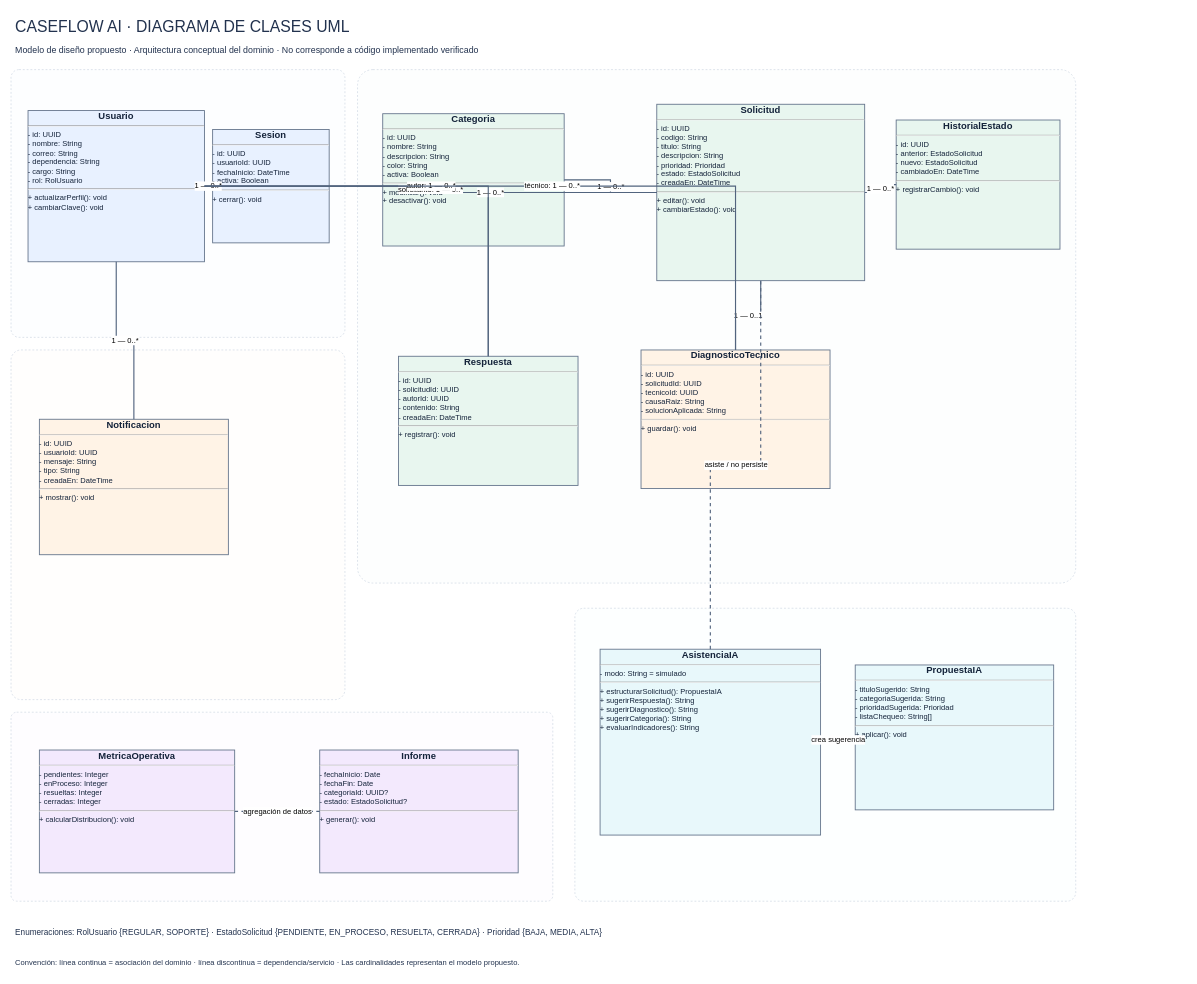
The diagram is 1197 pixels wide and 984 high, and some of its shapes have lost their labels. The box of each missing label's shape, as (x1, y1, x2, y2) in pixels:
Analítica e informes: (10, 712, 553, 901)
Asistencia IA (simulada): (574, 608, 1076, 901)
Atención técnica: (10, 349, 345, 700)
Gestión de solicitudes: (357, 69, 1076, 583)
Identidad y acceso: (10, 69, 345, 337)
